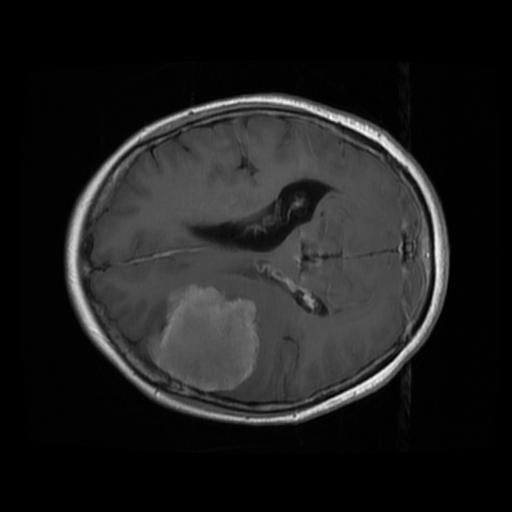meningioma: (145, 282, 257, 391)
